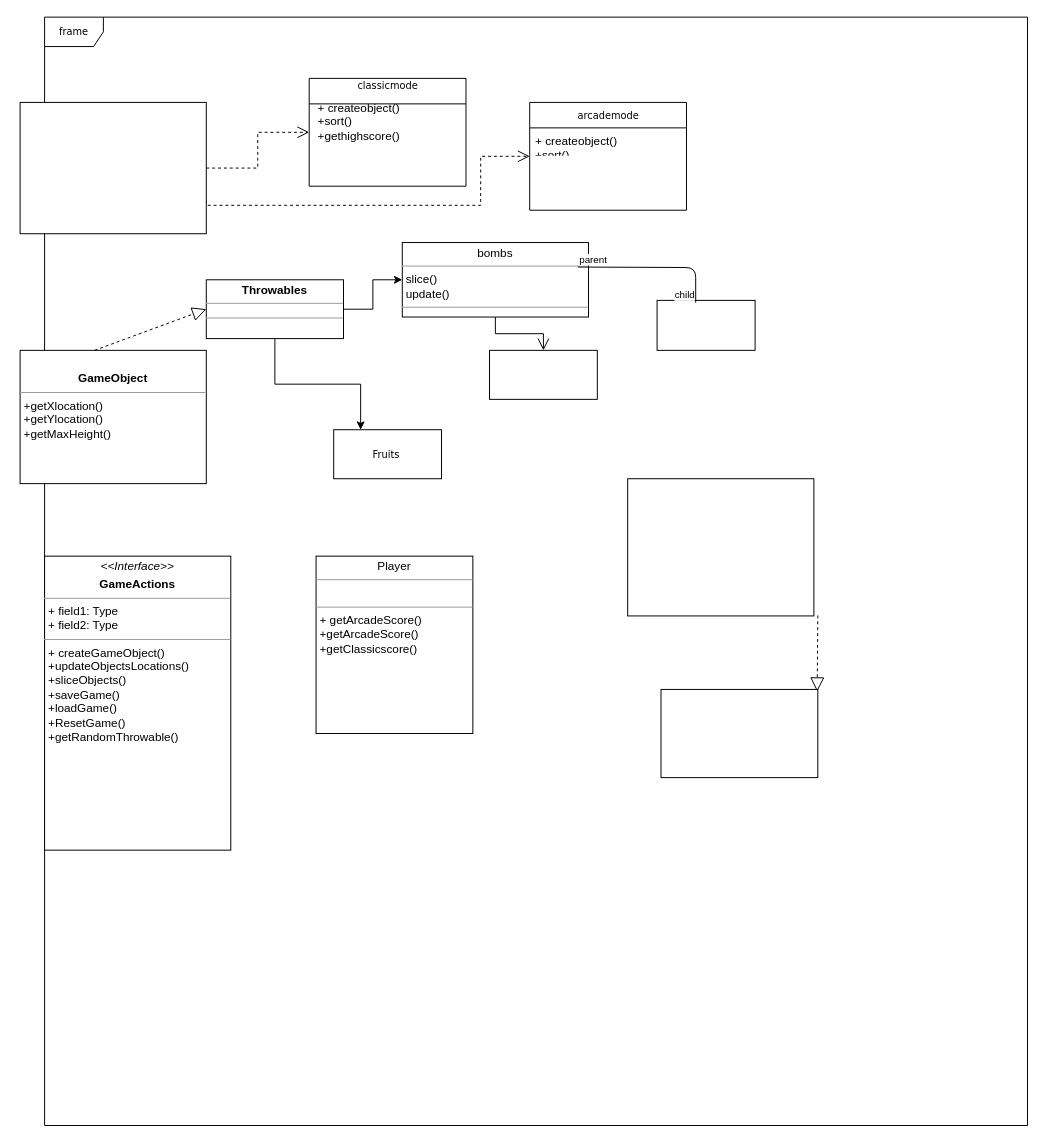
This 1045x1143 diagram has some shape labels left out. Each missing label, with the box of its shape:
<<Interface>> command + execute(): (627, 478, 814, 616)
<<Interface>> GameMode + createobject() +sort() +gethighscore(): (19, 101, 206, 234)
dangerousbomb: (656, 299, 755, 350)
fatalbomb: (489, 349, 597, 399)
Sound + toggleSound(): (660, 688, 818, 778)
